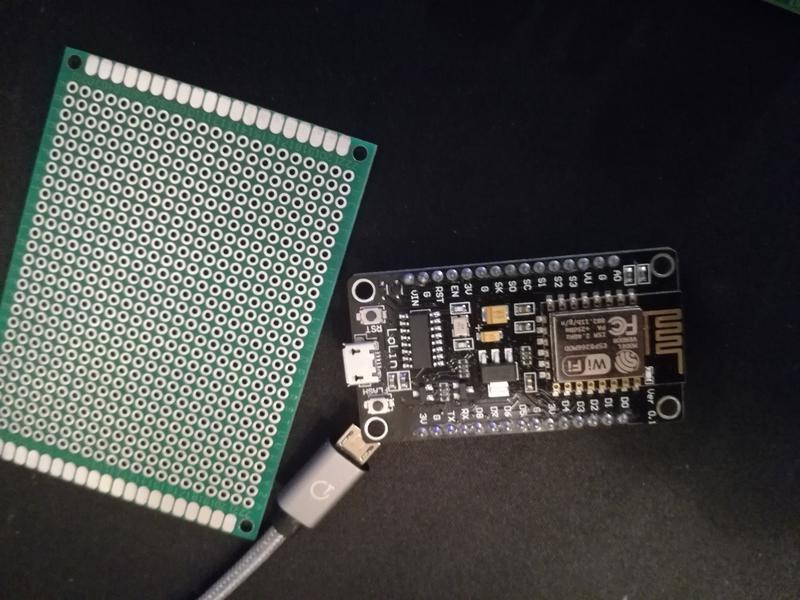ESP8266: (337, 240, 696, 448)
